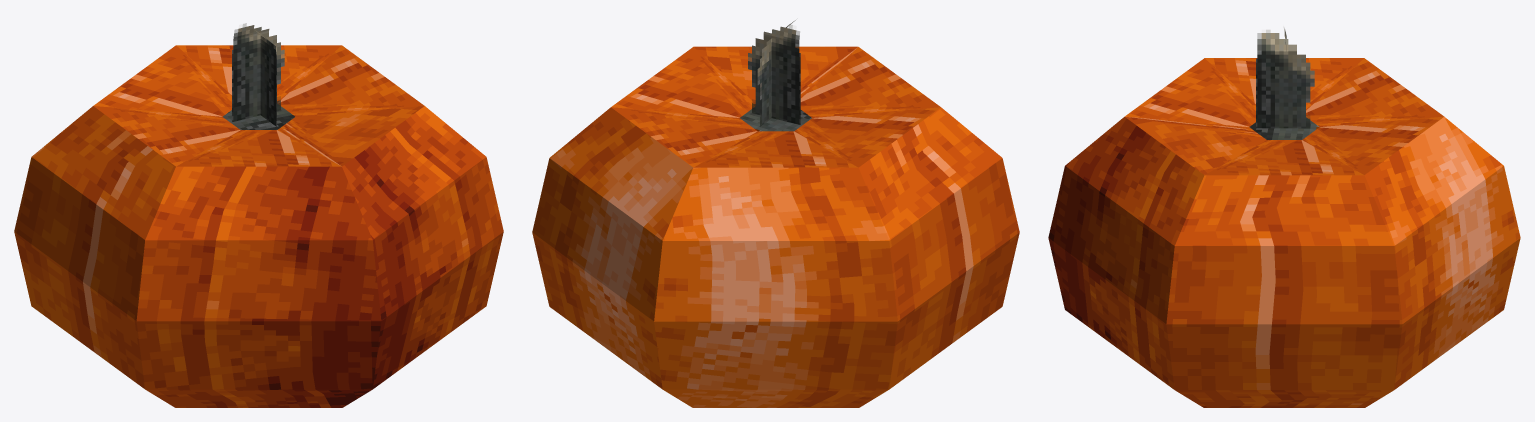
Rendered from pumpkin.glb.
3 renders of one model, left to right at view 1: azimuth 30°, elevation 25°; view 2: azimuth 150°, elevation 25°; view 3: azimuth 270°, elevation 25°, orthographic. The views are drawn at different scales.
Visible parts, largest first — view 1: pumpkin; view 2: pumpkin; view 3: pumpkin.
Boxes of the visible parts, <box> form: pumpkin: <box>14,23,503,407</box>; pumpkin: <box>532,20,1019,407</box>; pumpkin: <box>1048,28,1520,407</box>.
Size of the model in its own units: 0.4244 by 0.362 by 0.4901.
Materials: 1 (1 with a texture image).
